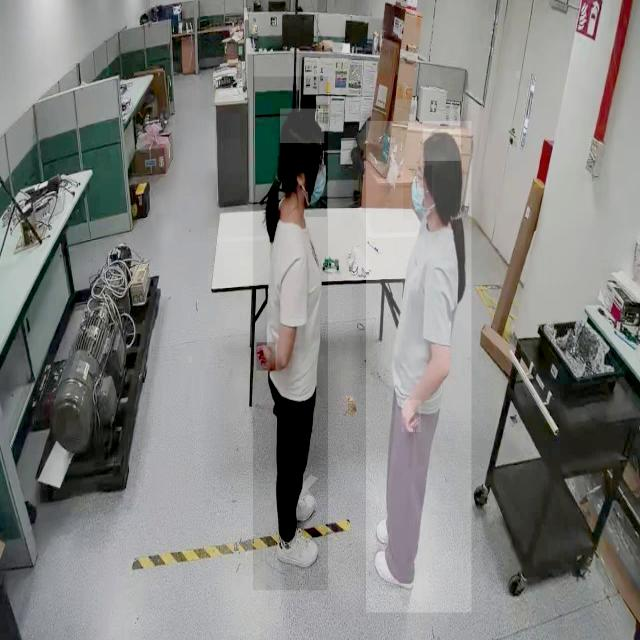face_mask: (305, 145, 327, 217), (403, 166, 432, 220)
hand_noglove: (401, 400, 421, 433), (256, 342, 276, 372)
head_nohelmet: (280, 108, 324, 144), (422, 129, 461, 162)
person: (366, 121, 472, 613), (252, 77, 328, 591)
shoes: (368, 547, 423, 591), (274, 526, 322, 572), (274, 491, 318, 529), (376, 511, 422, 547)
